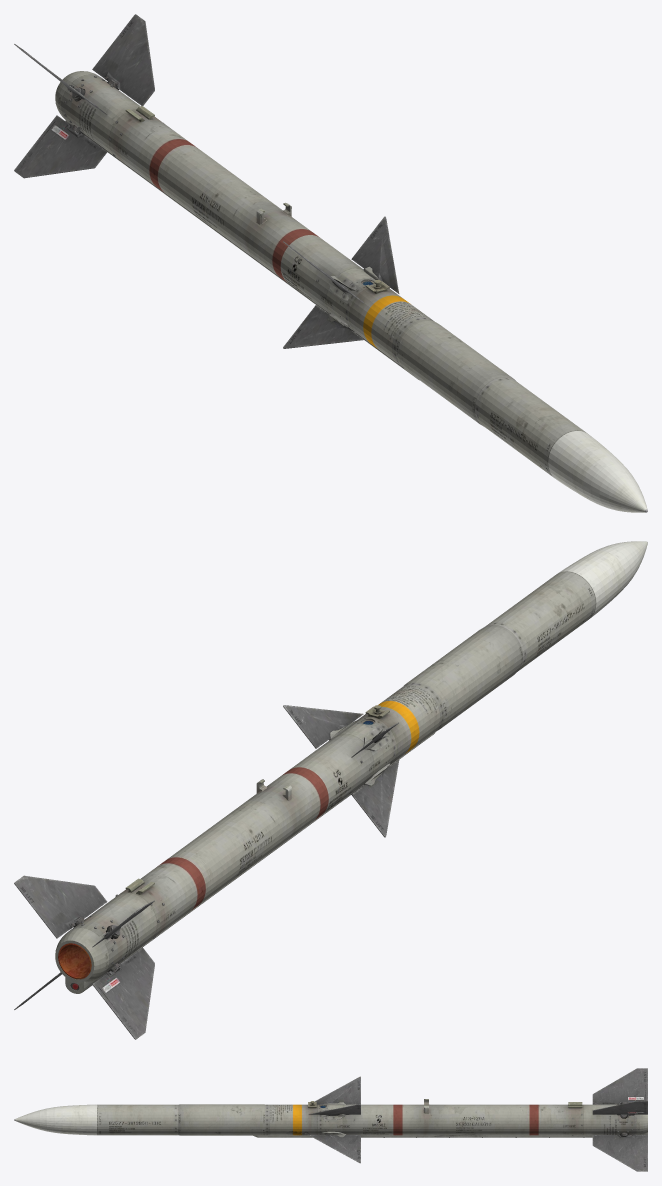
File: us_aim_120a_default.obj
3 renders of one model, top to bottom at view 1: azimuth 30°, elevation 25°; view 2: azimuth 150°, elevation 25°; view 3: azimuth 270°, elevation 25°, orthographic. The views are drawn at different scales.
Visible parts, largest first — view 1: us_aim_120a_missile#@root_0; view 2: us_aim_120a_missile#@root_0; view 3: us_aim_120a_missile#@root_0.
Boxes of the visible parts, x1,y1,x2,y2 form: us_aim_120a_missile#@root_0: [14, 14, 647, 512]; us_aim_120a_missile#@root_0: [14, 541, 647, 1039]; us_aim_120a_missile#@root_0: [14, 1068, 647, 1171].
Size of the model in its own units: 0.4509 by 0.4509 by 3.66.
Materials: 1 (1 with a texture image).
